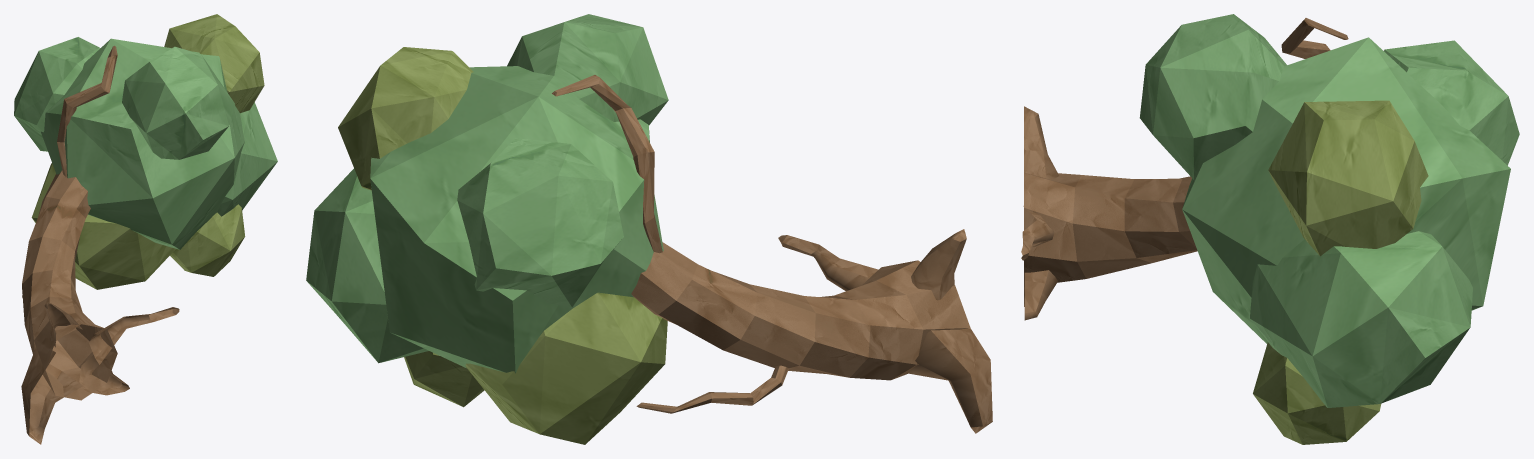
Rendered from SkewedChunkyTree.FBX.
The picture shows the model from 3 angles, left to right: view 1: azimuth 30°, elevation 25°; view 2: azimuth 150°, elevation 25°; view 3: azimuth 270°, elevation 25°; orthographic projection. The views are drawn at different scales.
Parts seen in each view (by area): view 1: Cylinder002; view 2: Cylinder002; view 3: Cylinder002.
Boxes of the visible parts, x1,y1,x2,y2 form: Cylinder002: [14, 14, 277, 444]; Cylinder002: [306, 14, 992, 444]; Cylinder002: [1021, 14, 1519, 444].
Bounding box in the file's own units: 358 × 286 × 302.
Materials: 3 (3 with a texture image).
